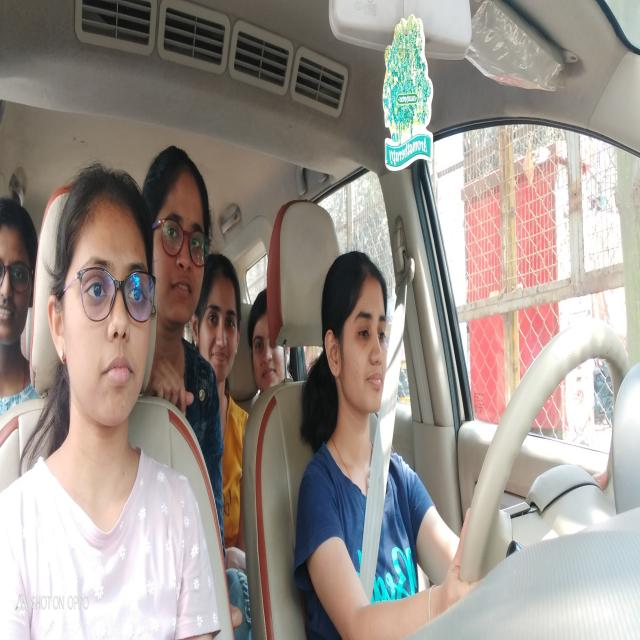person: (43, 159, 153, 441), (319, 246, 389, 434), (151, 138, 210, 320), (0, 194, 40, 366), (204, 254, 244, 386), (247, 294, 291, 398)
